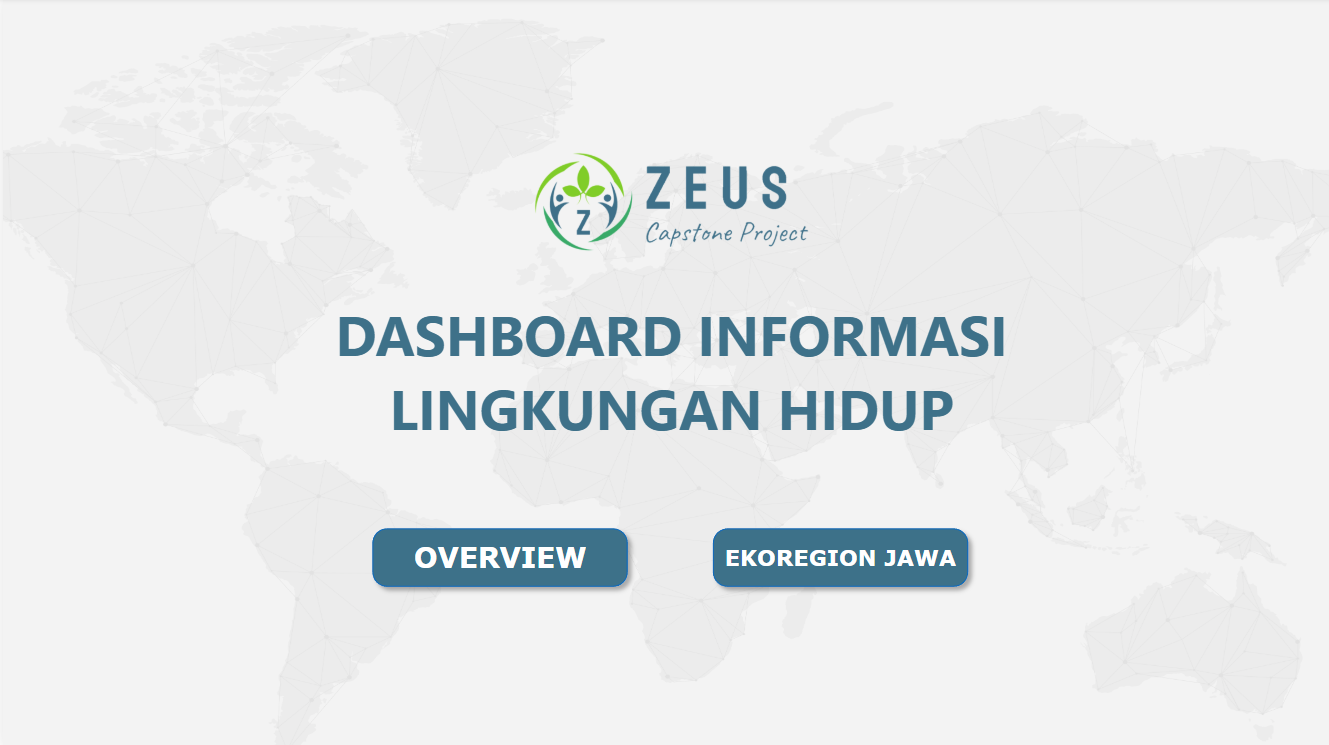

Layout of this report page (visuals, bound fields, positions):
{"tool":"powerbi","page":{"name":"MAIN PAGE","canvas":[1280,720],"ordinal":0},"visuals":[{"type":"image","box":[501.9,52.5,276.2,276.2],"z":0},{"type":"textbox","box":[291.3,281.2,697.4,157.6],"z":1000},{"type":"shape","box":[345.5,499.9,262.6,73.9],"z":2000},{"type":"shape","box":[671.9,499.9,262.6,73.9],"z":3000}]}

Visuals, with their boxes in screenshot pixels (x1, y1, x2, y2), scaled from the page's 1280x720 canvas onto the 1329x745 screenshot:
image: 521/54/808/340
textbox: 302/291/1027/454
shape: 359/517/631/594
shape: 698/517/970/594
